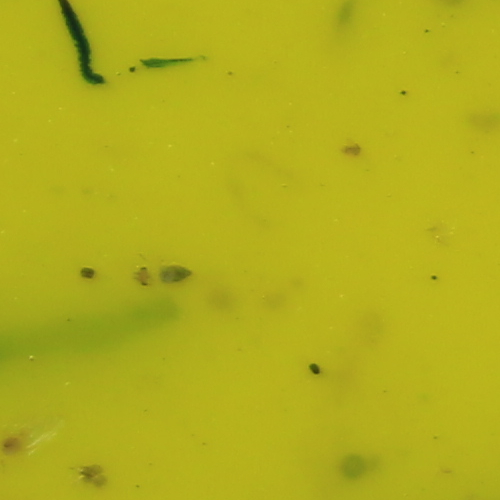Glycaspis: (132, 257, 198, 290)
